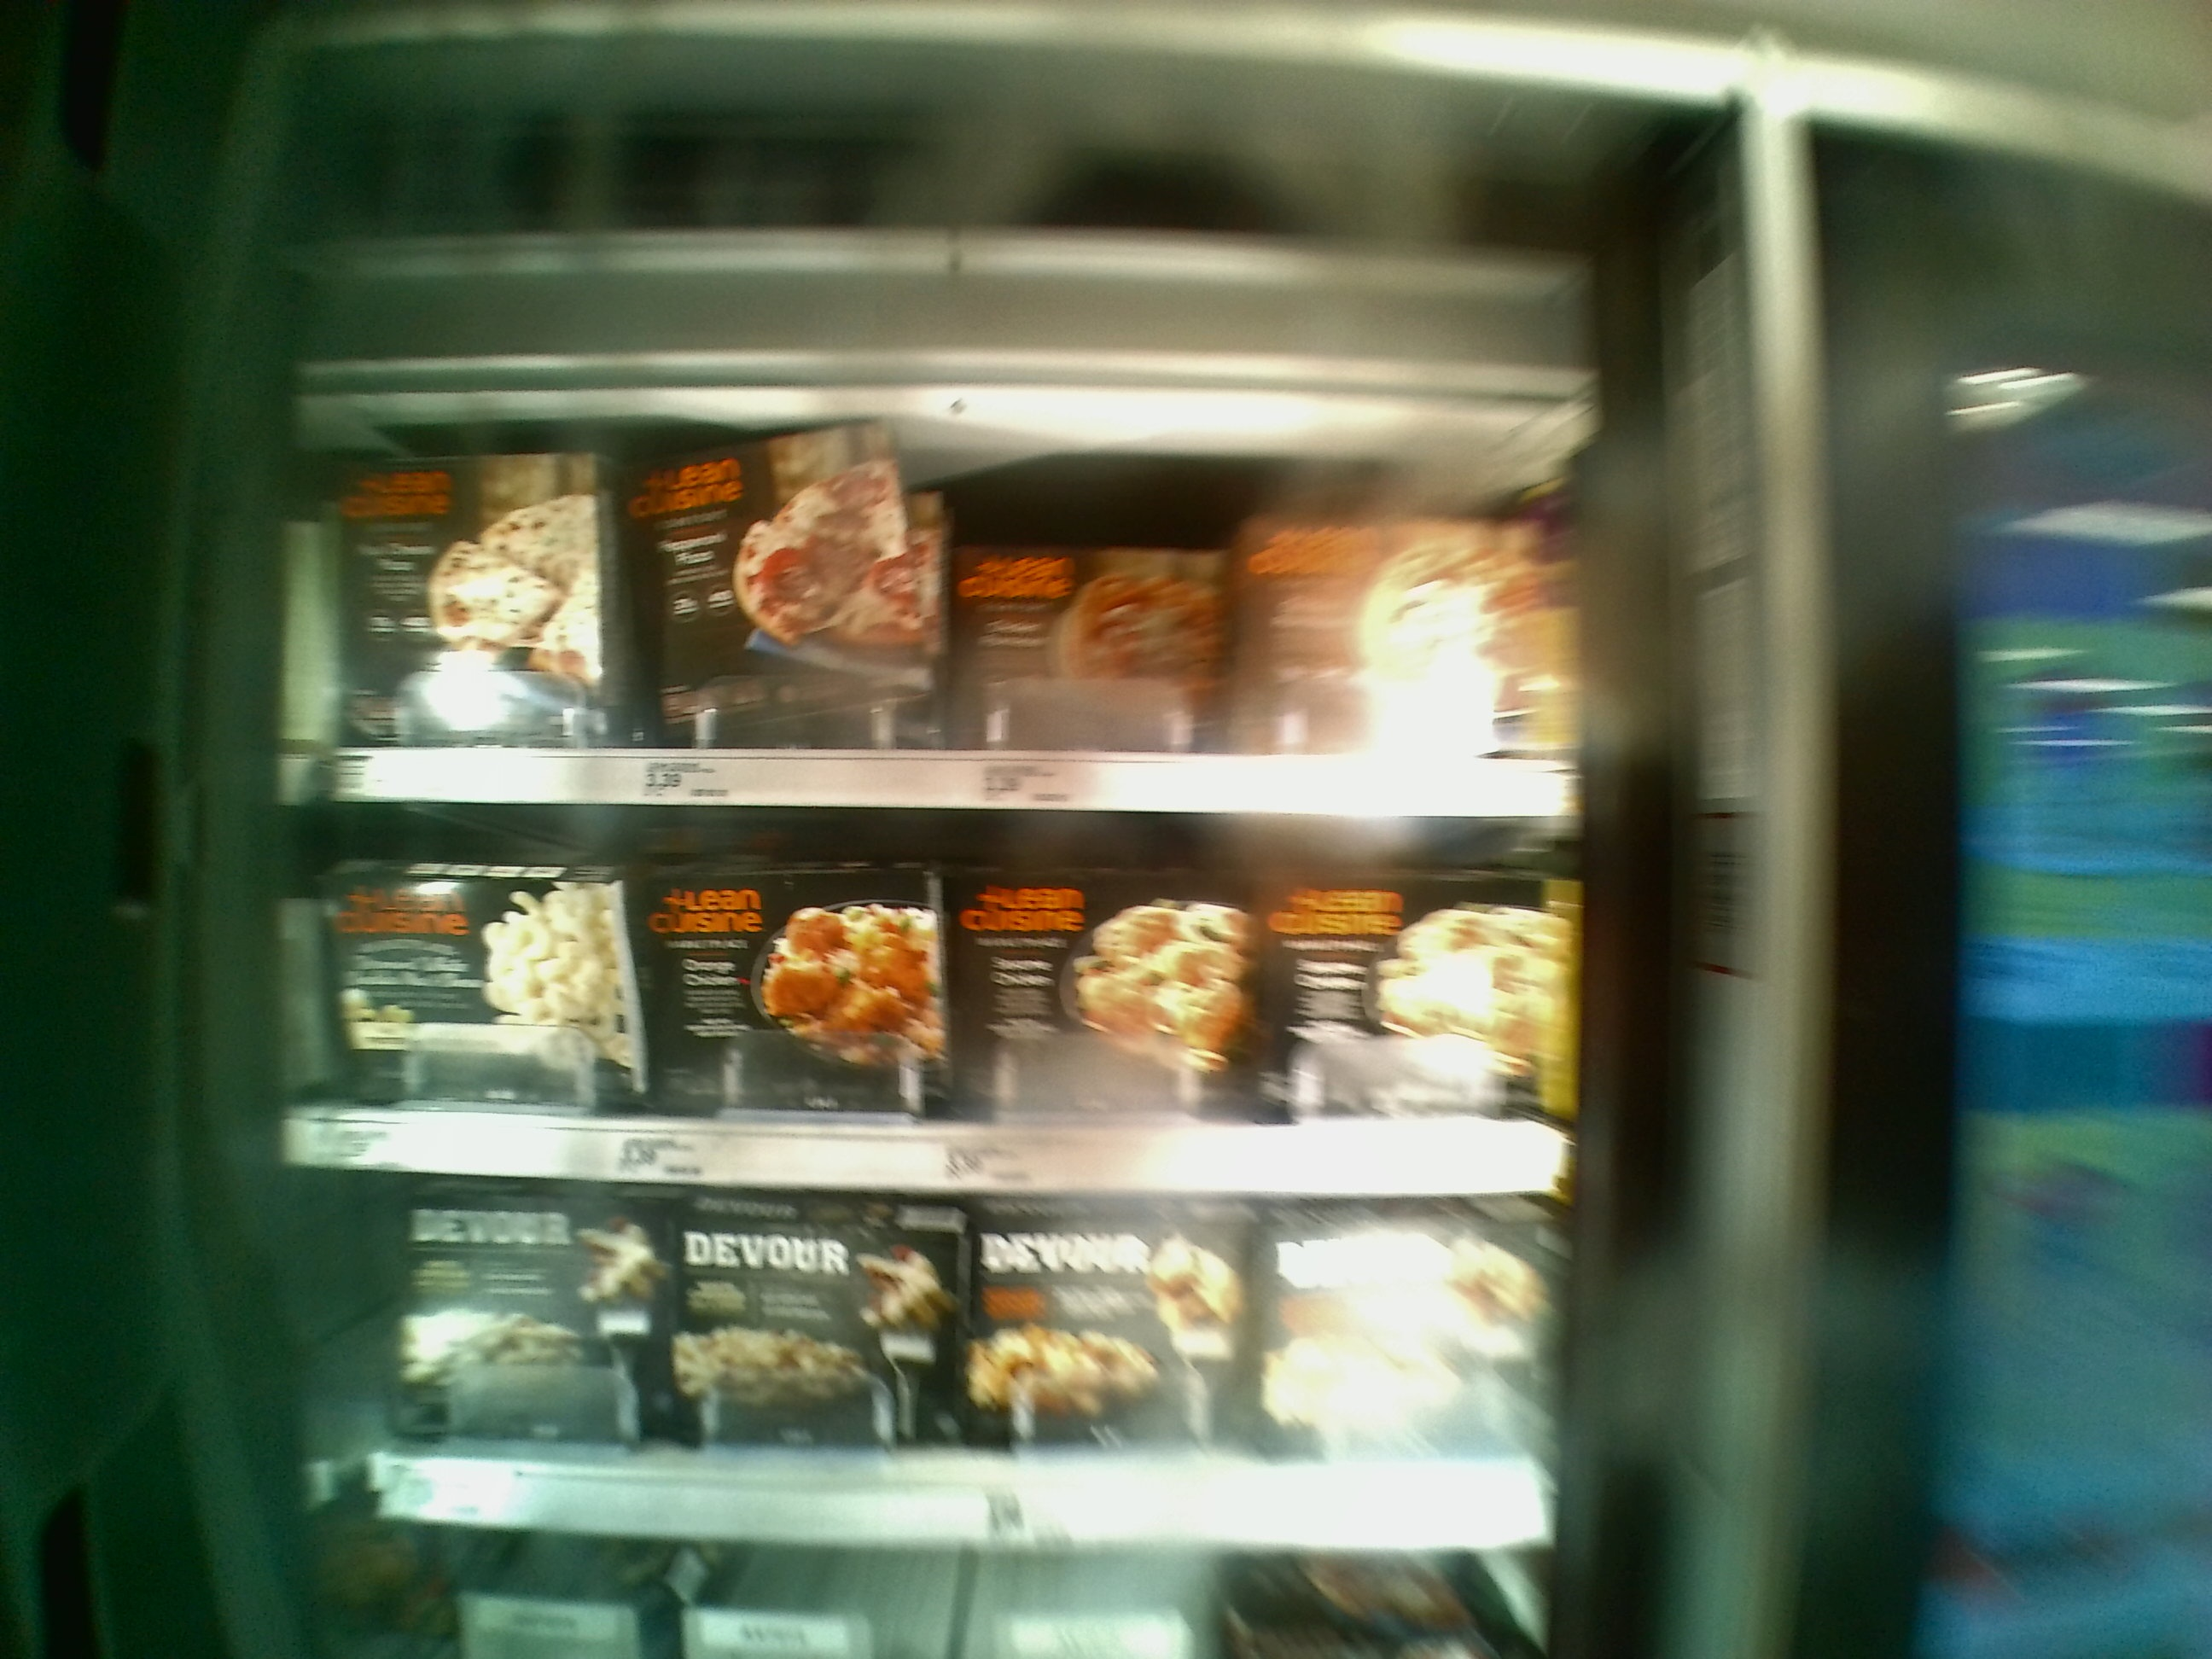Shelf: (310, 373, 1571, 814), (291, 798, 1566, 1190), (286, 1171, 1588, 1549)
